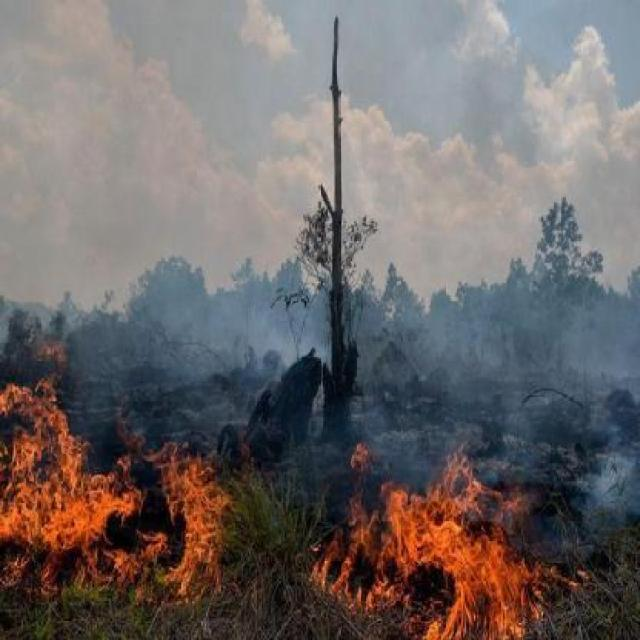Fire: (0, 355, 232, 601), (308, 438, 588, 638)
